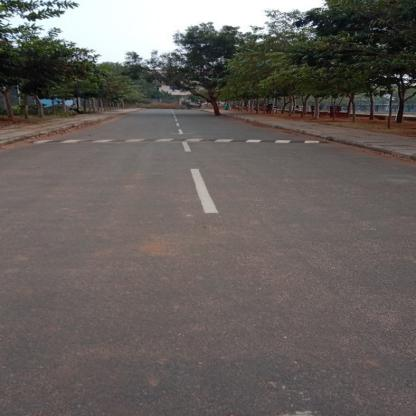speed-bumps: (17, 130, 342, 151)
